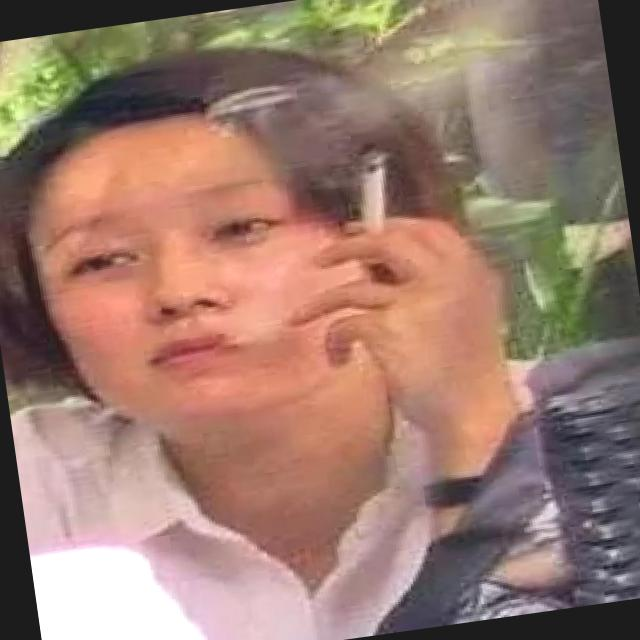smoke: (333, 131, 404, 271)
